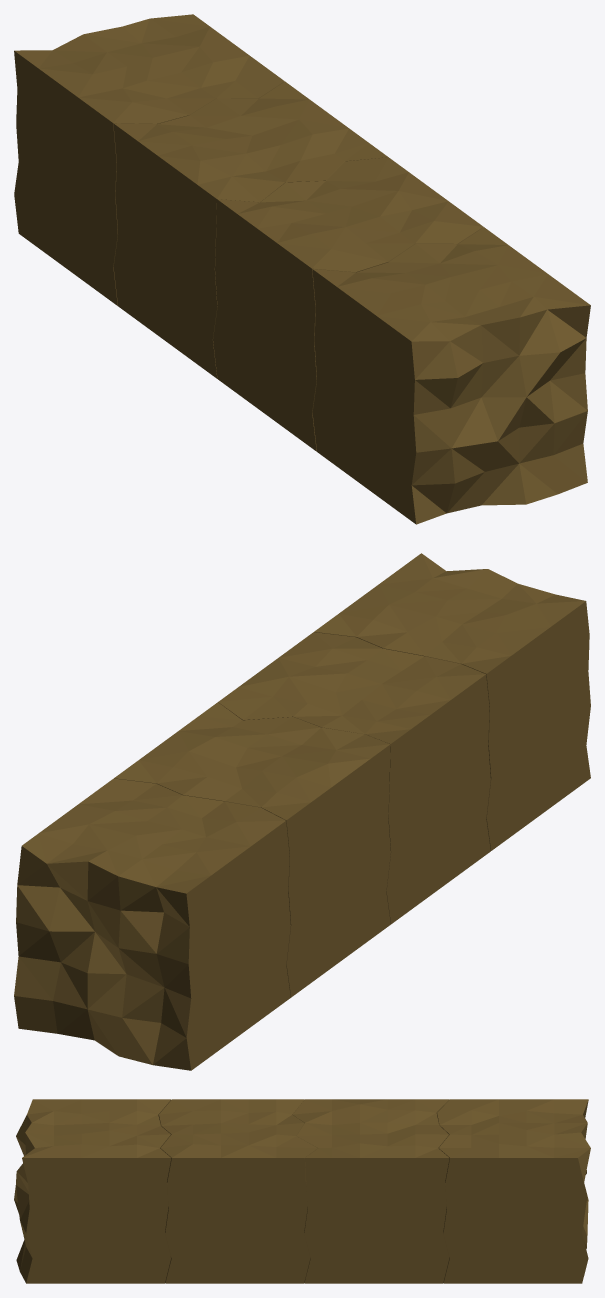
The model's file is SM_path_2_DE.fbx.
3 views of the same model, one above another, from view 1: azimuth 30°, elevation 25°; view 2: azimuth 150°, elevation 25°; view 3: azimuth 270°, elevation 25° (orthographic). The views are drawn at different scales.
Visible parts, largest first — view 1: SM_path2_1_DE, SM_path2_2_DE, SM_path2_rightmid_DE, SM_path2_leftmid_DE; view 2: SM_path2_2_DE, SM_path2_rightmid_DE, SM_path2_1_DE, SM_path2_leftmid_DE; view 3: SM_path2_1_DE, SM_path2_2_DE, SM_path2_rightmid_DE, SM_path2_leftmid_DE.
Part boxes in pixels (left/top/right/bottom): SM_path2_1_DE: left=312, top=227, right=590, bottom=524; SM_path2_2_DE: left=14, top=14, right=284, bottom=305; SM_path2_rightmid_DE: left=113, top=81, right=388, bottom=378; SM_path2_leftmid_DE: left=213, top=157, right=483, bottom=451; SM_path2_2_DE: left=14, top=778, right=290, bottom=1070; SM_path2_rightmid_DE: left=114, top=702, right=390, bottom=997; SM_path2_1_DE: left=314, top=553, right=590, bottom=850; SM_path2_leftmid_DE: left=218, top=632, right=490, bottom=924; SM_path2_1_DE: left=14, top=1099, right=171, bottom=1283; SM_path2_2_DE: left=437, top=1099, right=590, bottom=1283; SM_path2_rightmid_DE: left=292, top=1099, right=449, bottom=1283; SM_path2_leftmid_DE: left=158, top=1099, right=317, bottom=1283.
Size of the model in its own units: 120 by 123 by 500.
